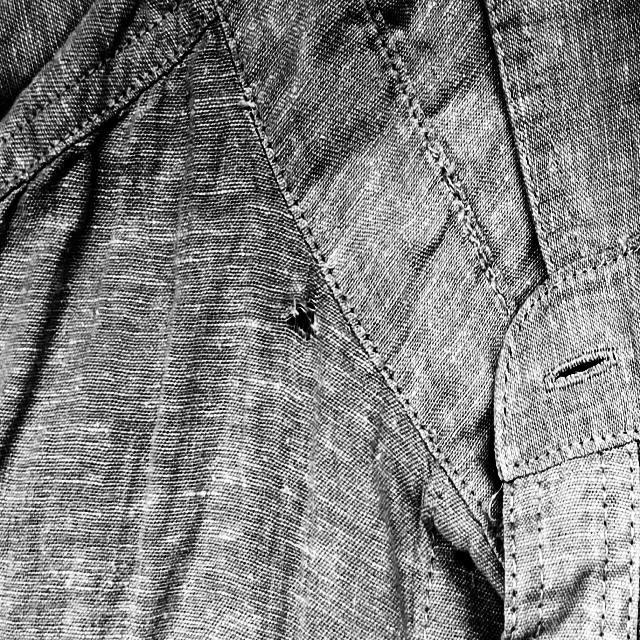Hole: (279, 289, 320, 347)
